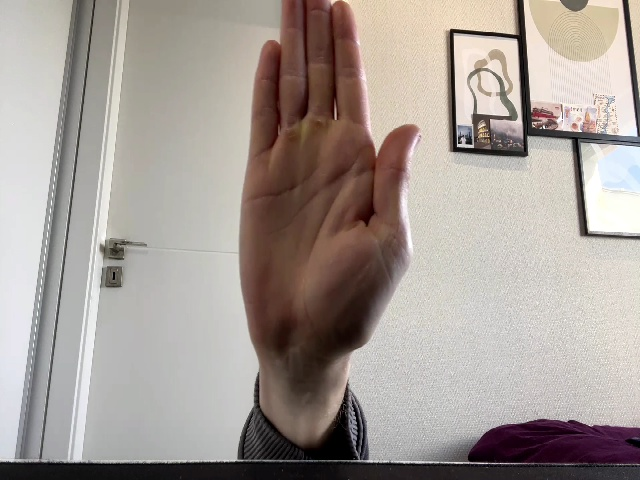B: (239, 1, 422, 363)
